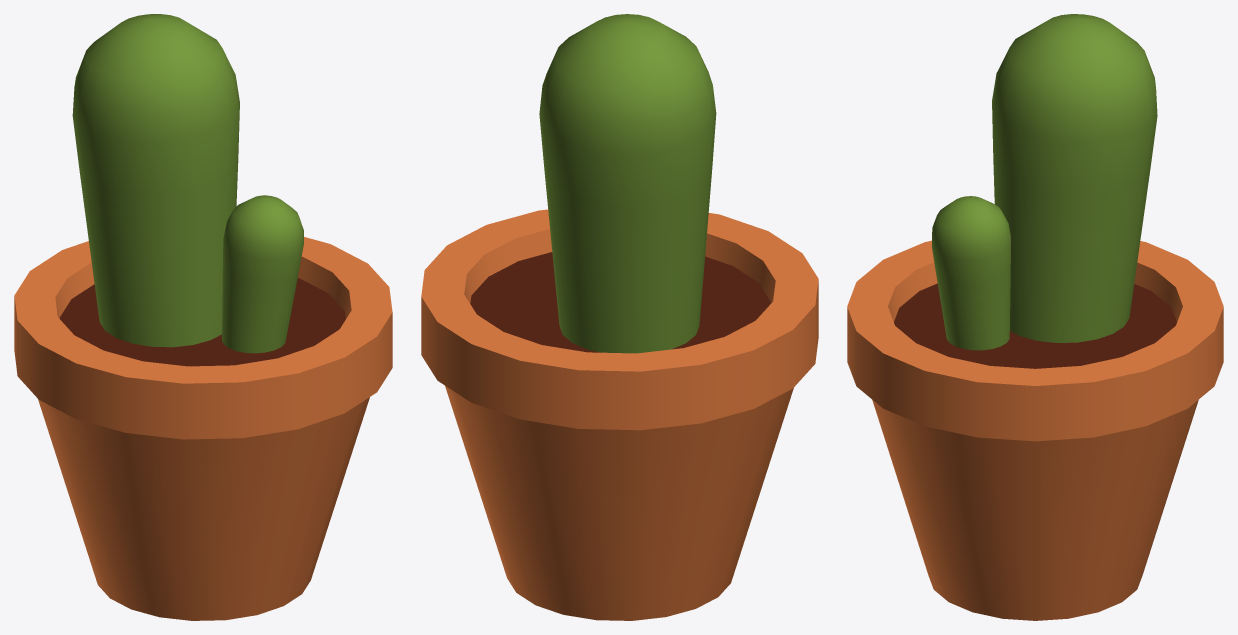
Rendered from cactus.fbx.
3 views of the same model, side by side, from view 1: azimuth 30°, elevation 25°; view 2: azimuth 150°, elevation 25°; view 3: azimuth 270°, elevation 25° (orthographic). The views are drawn at different scales.
Parts seen in each view (by area): view 1: Cactus; view 2: Cactus; view 3: Cactus.
Boxes of the visible parts, x1=… form: Cactus: x1=14, y1=14, x2=392, y2=620; Cactus: x1=421, y1=14, x2=818, y2=620; Cactus: x1=847, y1=14, x2=1223, y2=620.
Bounding box in the file's own units: 35.39 × 35.39 × 56.2.
